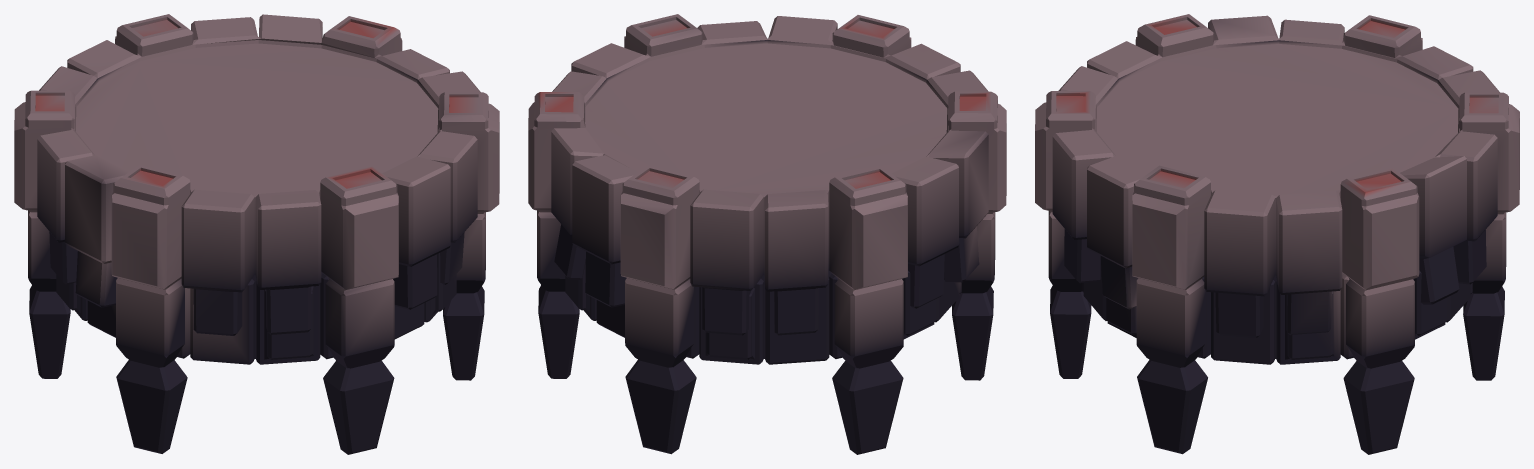
Rendered from island2.fbx.
3 views of the same model, side by side, from view 1: azimuth 30°, elevation 25°; view 2: azimuth 150°, elevation 25°; view 3: azimuth 270°, elevation 25° (orthographic).
Visible parts, largest first — view 1: Arena1; view 2: Arena1; view 3: Arena1.
Part boxes in pixels (bbox=[...]): Arena1: bbox=[14, 14, 499, 454]; Arena1: bbox=[528, 14, 1006, 454]; Arena1: bbox=[1035, 14, 1519, 454].
Bounding box in the file's own units: 1246 × 809 × 1313.
